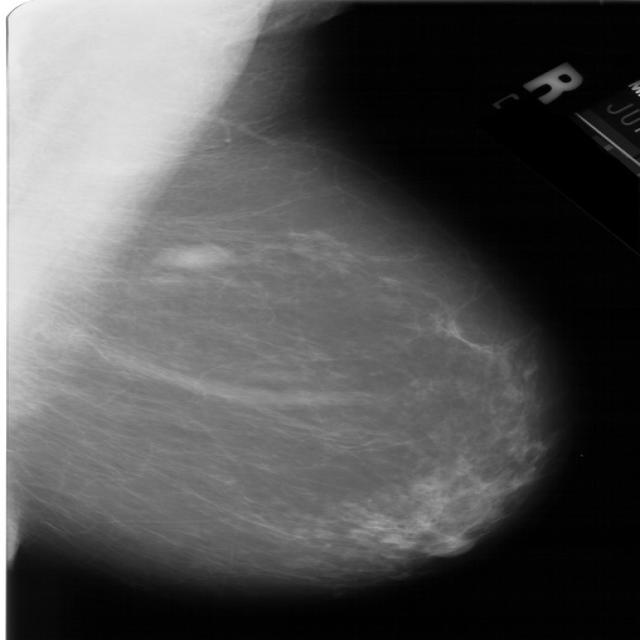tumour: (154, 243, 228, 270)
